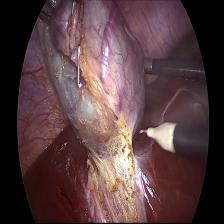Hook: (137, 118, 179, 162)
